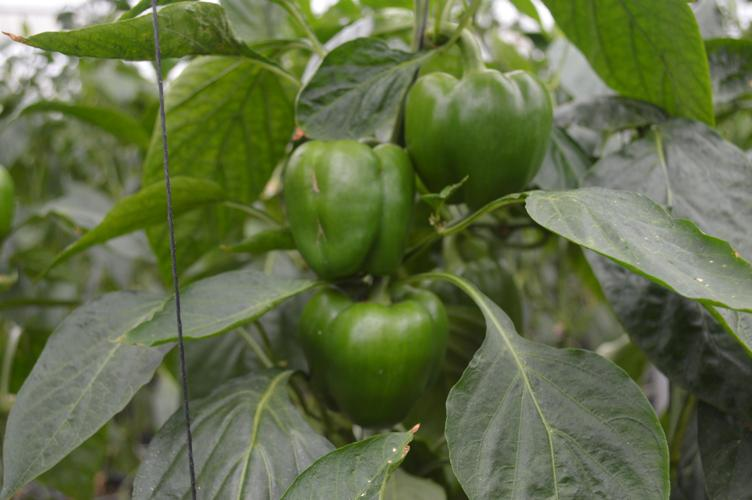BellPepper: (303, 285, 451, 430), (399, 69, 548, 203), (276, 141, 413, 279)
